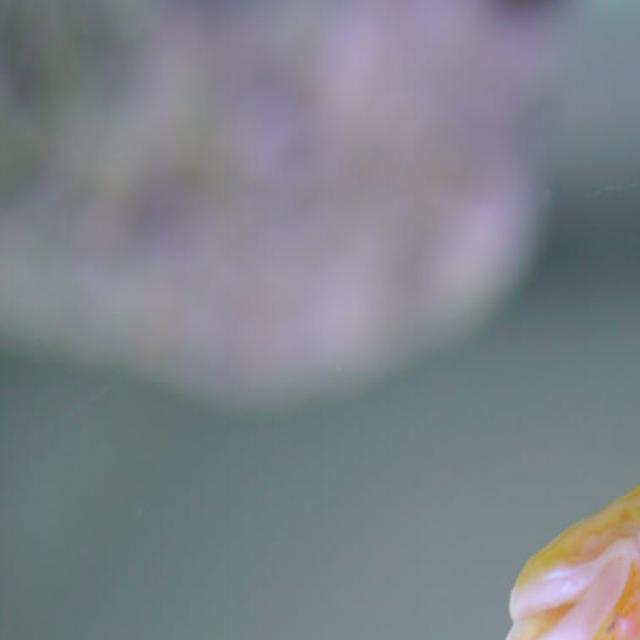fish: (1, 0, 640, 639)
